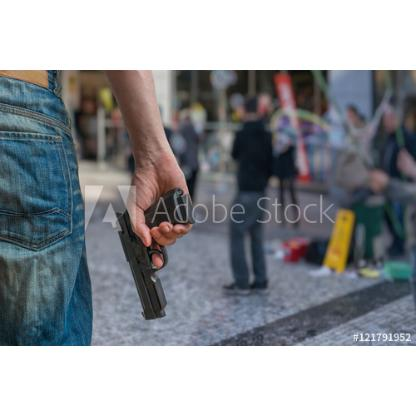gun: (115, 180, 200, 318)
